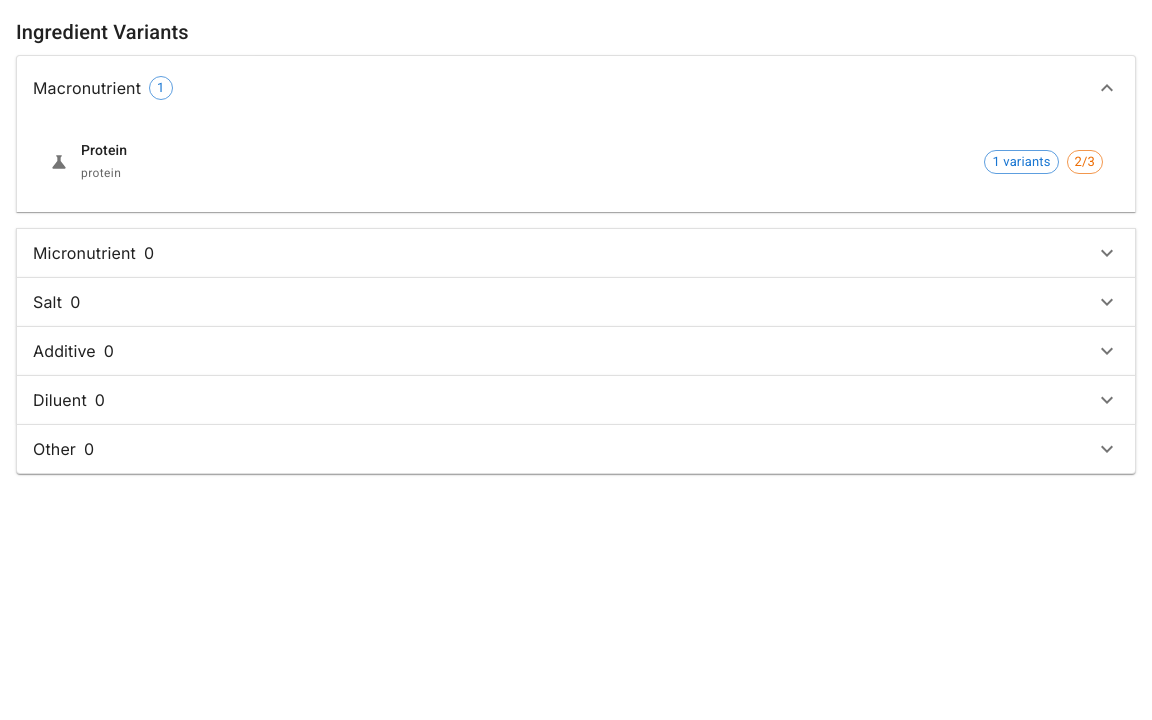
IngredientVariantManager › expands and collapses individual ingredients to show variants
The image size is (1152, 720).
Expected: the text "Protein" is shown, [81, 142, 127, 158]
Expected: the text "NEO" is not shown
Click the button "Protein protein 1 variants 2/3". click: click(104, 150)
box: [49, 142, 1103, 180]
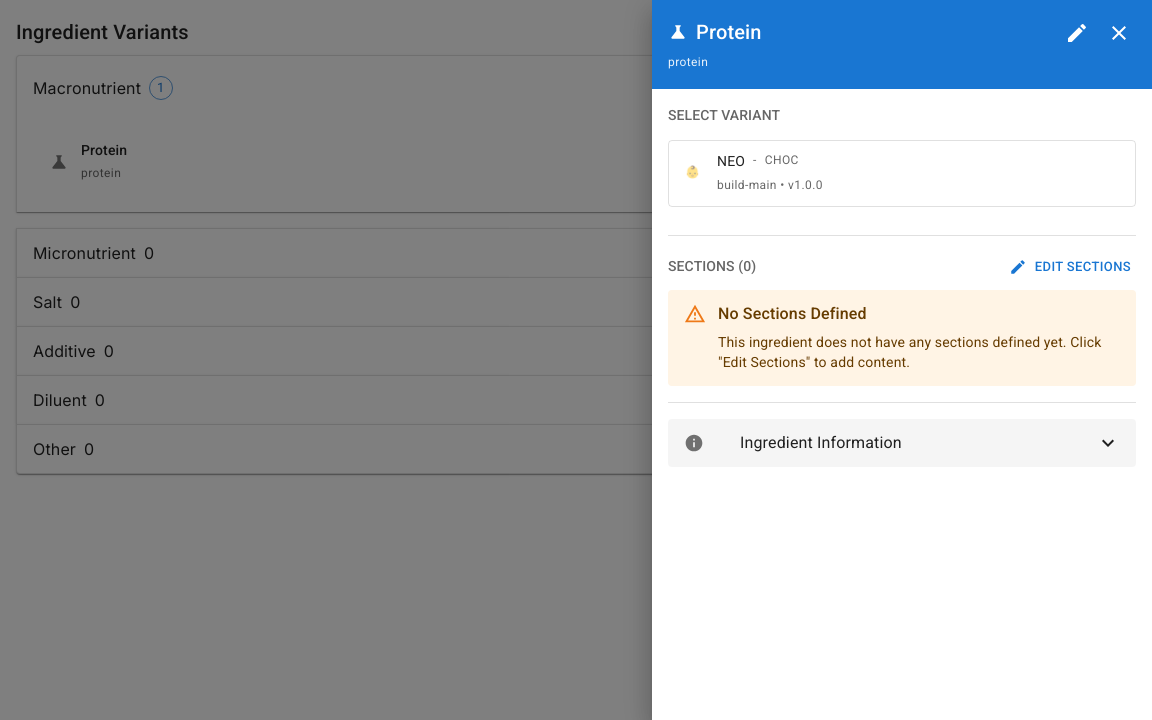
Expected: the text "NEO" is shown, [717, 151, 745, 171]
Expected: the text "CHOC" is shown, [765, 151, 799, 171]
